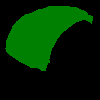mutande: (5, 6, 93, 71)
